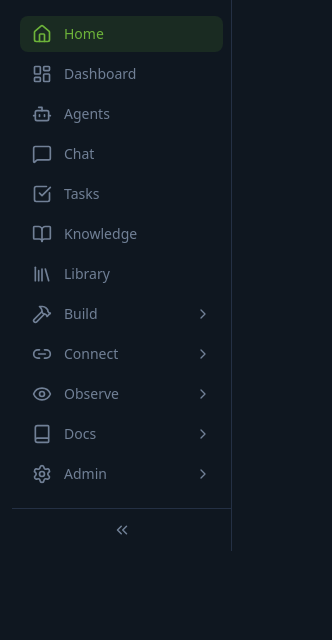
Test: Expandable docs nav (Sidebar) › shows children after clicking Docs
The image size is (332, 640).
Click the button "Docs": (122, 434) [20,416,223,452]
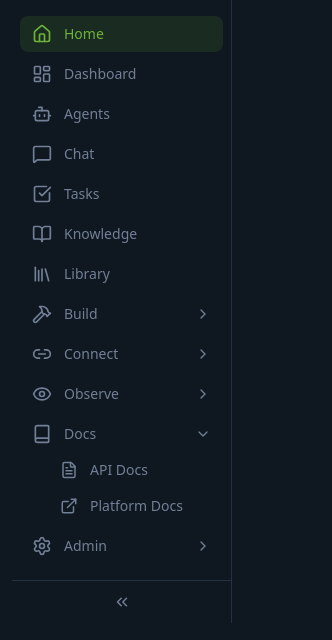
Now the link "API Docs" is shown, box [60,460,148,479]
Now the link "Platform Docs" is shown, box [60,496,183,515]
